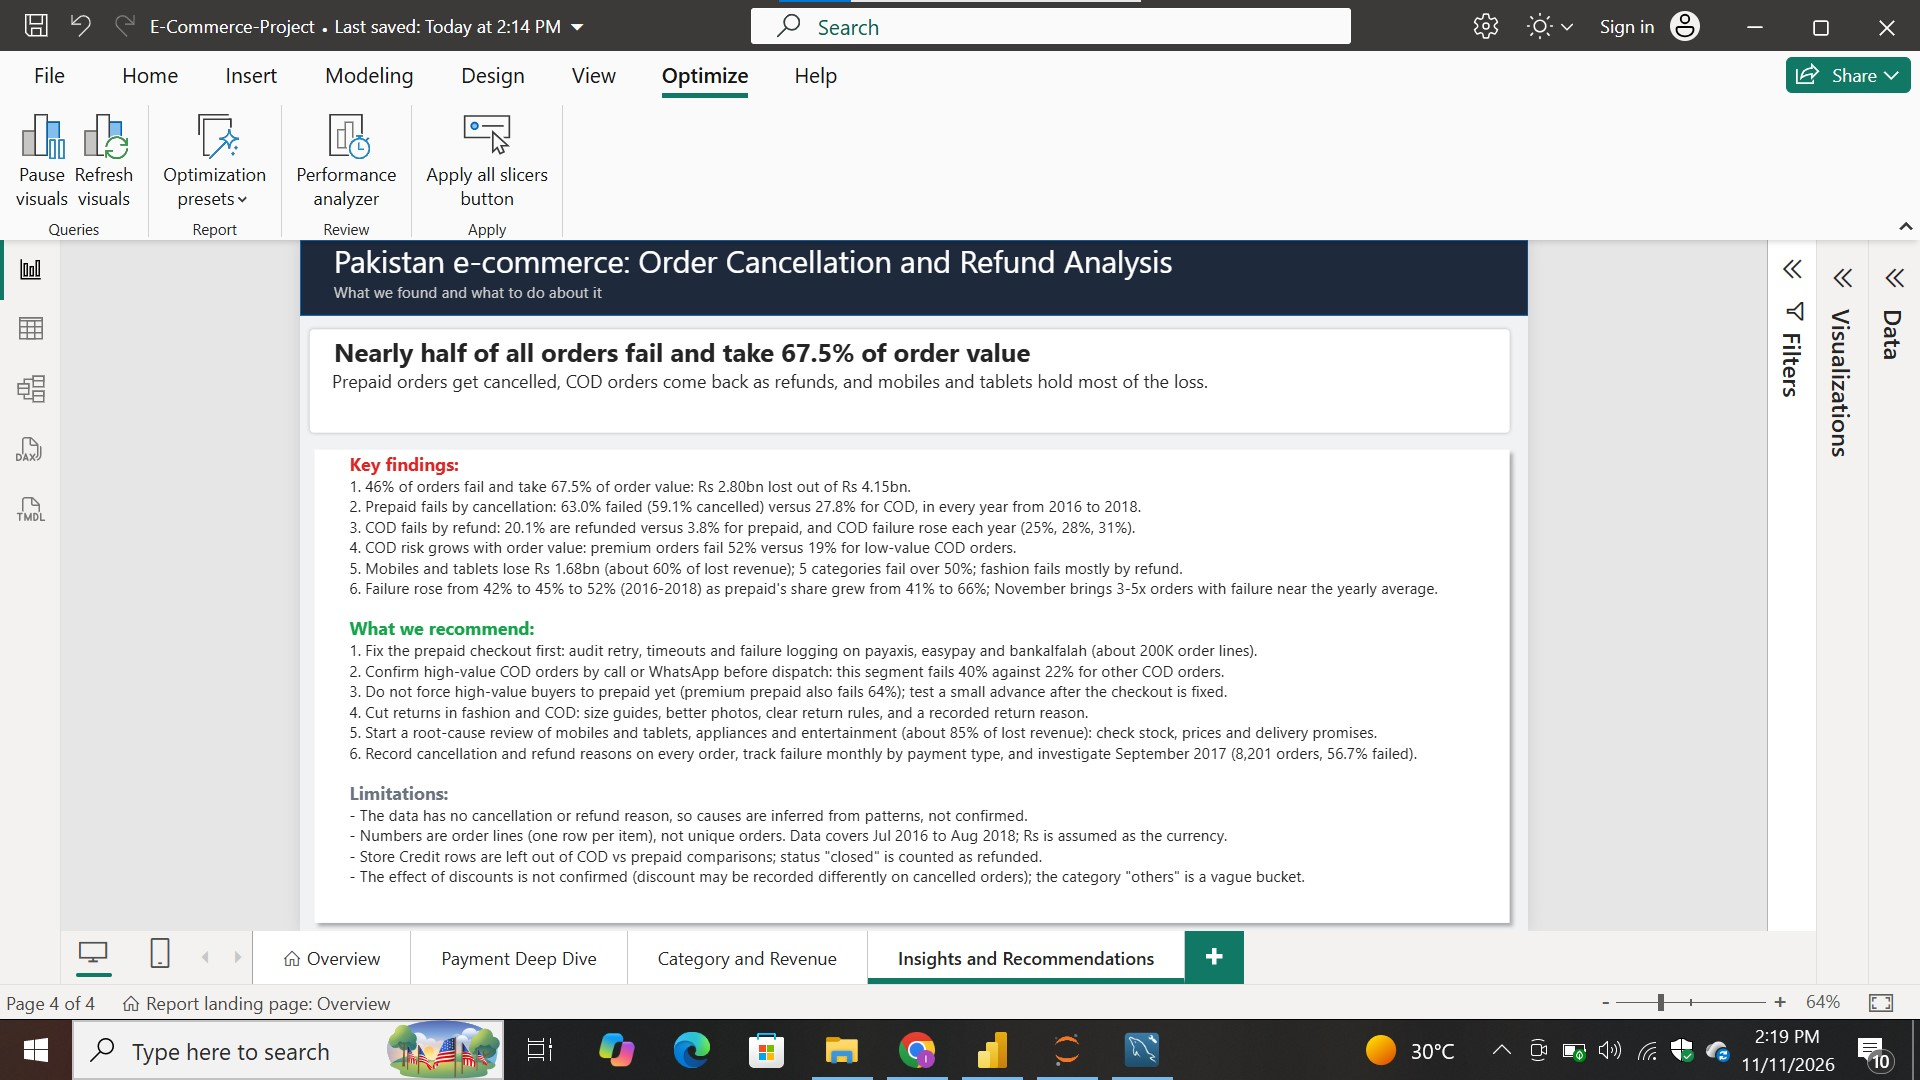

Layout of this report page (visuals, bound fields, positions):
{"tool":"powerbi","page":{"name":"Insights and Recommendations","canvas":[1280,720],"ordinal":3},"visuals":[{"type":"shape","box":[0,0,1280,79],"z":0},{"type":"textbox","box":[0,0,1280.1,79.7],"z":1},{"type":"shape","box":[6.3,89.1,1258.2,115.7],"z":4},{"type":"textbox","box":[28.1,98.5,1216,96.9],"z":5},{"type":"shape","box":[6.3,209.4,1262.9,511.1],"z":6},{"type":"textbox","box":[51.6,220.4,1217.6,487.7],"z":7}]}

Visuals, with their boxes on the page's 1280x720 design canvas (x1, y1, x2, y2). These are canvas units, not pixel positions in the 1920x1080 screenshot, which may show the page scaled, cropped or inside an application window:
shape: pyautogui.locateOnScreen(0, 0, 1280, 79)
textbox: pyautogui.locateOnScreen(0, 0, 1280, 80)
shape: pyautogui.locateOnScreen(6, 89, 1264, 205)
textbox: pyautogui.locateOnScreen(28, 98, 1244, 195)
shape: pyautogui.locateOnScreen(6, 209, 1269, 720)
textbox: pyautogui.locateOnScreen(52, 220, 1269, 708)
